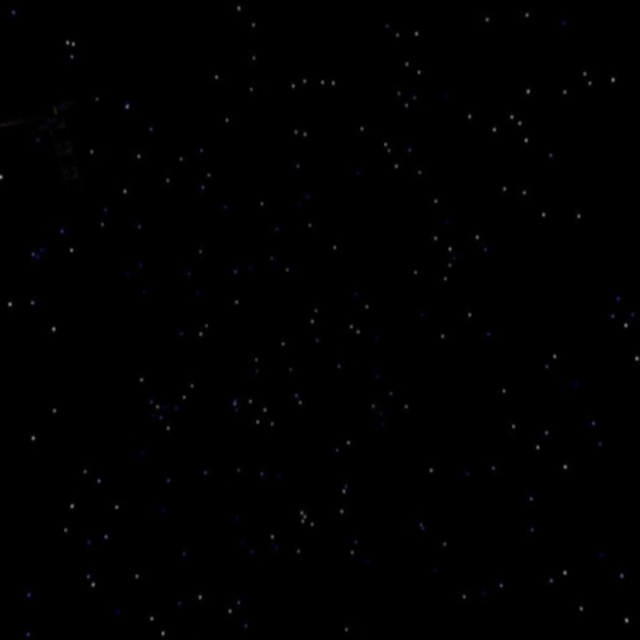satellite: (0, 82, 134, 226)
